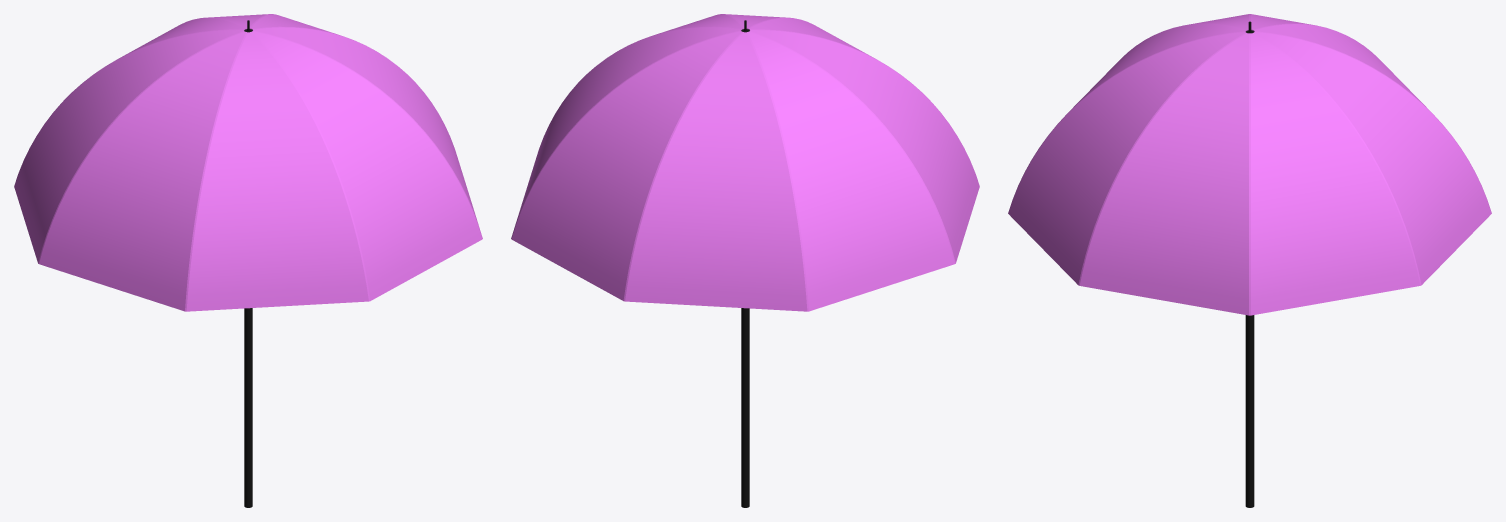
File: ParapluieExport.fbx
The picture shows the model from 3 angles, left to right: view 1: azimuth 30°, elevation 25°; view 2: azimuth 150°, elevation 25°; view 3: azimuth 270°, elevation 25°; orthographic projection.
Parts seen in each view (by area): view 1: Arc005, Arc011, Arc017, Arc012, Arc016, Cylinder001, Arc013, Arc015; view 2: Arc013, Arc012, Arc014, Arc011, Arc015, Cylinder001, Arc005, Arc016; view 3: Arc016, Arc015, Arc014, Arc017, Arc005, Arc013, Cylinder001.
Boxes of the visible parts, box(x1,y1,x2,y2) form: Arc005: box(186, 32, 370, 311); Arc011: box(39, 31, 247, 311); Arc017: box(252, 31, 482, 301); Arc012: box(14, 29, 244, 263); Arc016: box(252, 27, 479, 230); Cylinder001: box(244, 29, 252, 507); Arc013: box(54, 18, 246, 111); Arc015: box(250, 14, 376, 51); Arc013: box(624, 32, 808, 311); Arc012: box(746, 31, 955, 311); Arc014: box(511, 31, 743, 301); Arc011: box(750, 29, 979, 262); Arc015: box(511, 27, 741, 238); Cylinder001: box(741, 29, 749, 507); Arc005: box(747, 17, 873, 57); Arc016: box(617, 14, 744, 51); Arc016: box(1078, 33, 1250, 315); Arc015: box(1249, 32, 1421, 315); Arc014: box(1253, 31, 1491, 284); Arc017: box(1008, 31, 1246, 285); Arc005: box(1008, 24, 1247, 213); Arc013: box(1253, 23, 1487, 201); Cylinder001: box(1245, 30, 1254, 507).
Bounding box in the file's own units: 55.48 × 61.25 × 55.48.
